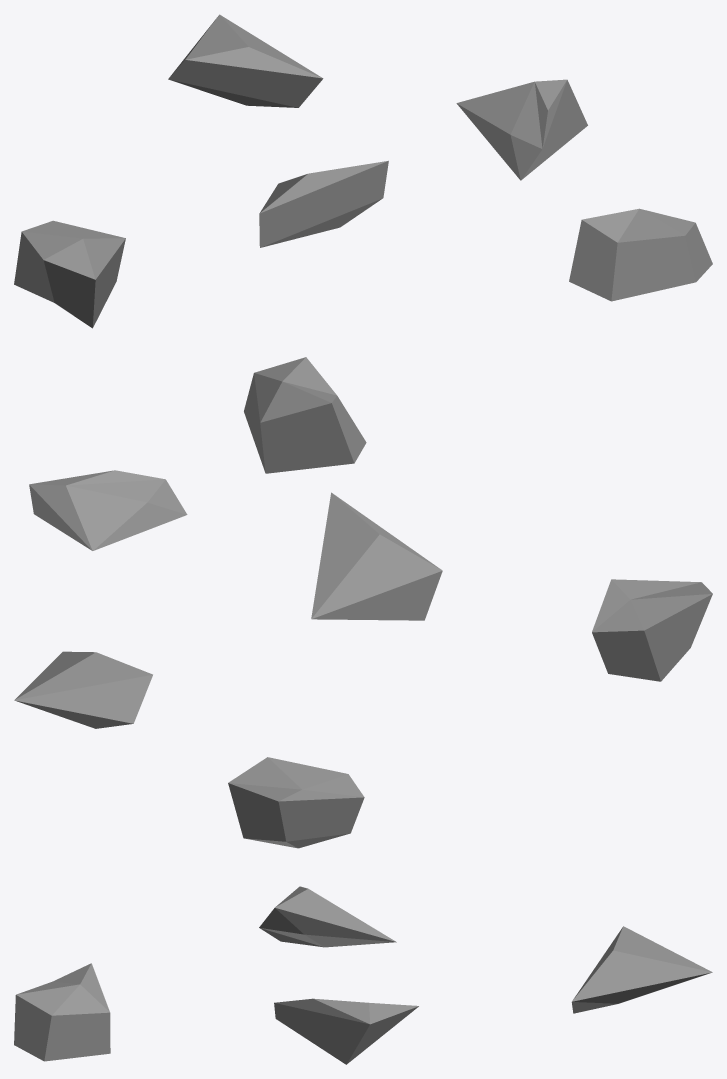
File: Pebbles_01.fbx
3 views of the same model, one above another, from view 1: azimuth 30°, elevation 25°; view 2: azimuth 150°, elevation 25°; view 3: azimuth 270°, elevation 25° (orthographic). The views are drawn at different scales.
Visible parts, largest first — view 1: pSphere5, pSphere7, pSphere6, pSphere3, pSphere4; view 2: pSphere4, pSphere5, pSphere6, pSphere3, pSphere7; view 3: pSphere6, pSphere5, pSphere7, pSphere3, pSphere4.
Boxes of the visible parts, <box> form: pSphere5: <box>569,208,712,301</box>; pSphere7: <box>168,14,323,107</box>; pSphere6: <box>14,220,125,328</box>; pSphere3: <box>456,79,587,180</box>; pSphere4: <box>259,160,388,247</box>; pSphere4: <box>311,492,442,620</box>; pSphere5: <box>244,357,366,473</box>; pSphere6: <box>592,579,712,681</box>; pSphere3: <box>29,470,187,550</box>; pSphere7: <box>14,651,152,728</box>; pSphere6: <box>228,757,364,848</box>; pSphere5: <box>14,963,110,1061</box>; pSphere7: <box>571,926,712,1013</box>; pSphere3: <box>274,998,418,1064</box>; pSphere4: <box>259,886,396,947</box>.
Bounding box in the file's own units: 0.5301 × 0.0721 × 0.5779.
1 material, 1 textured.
